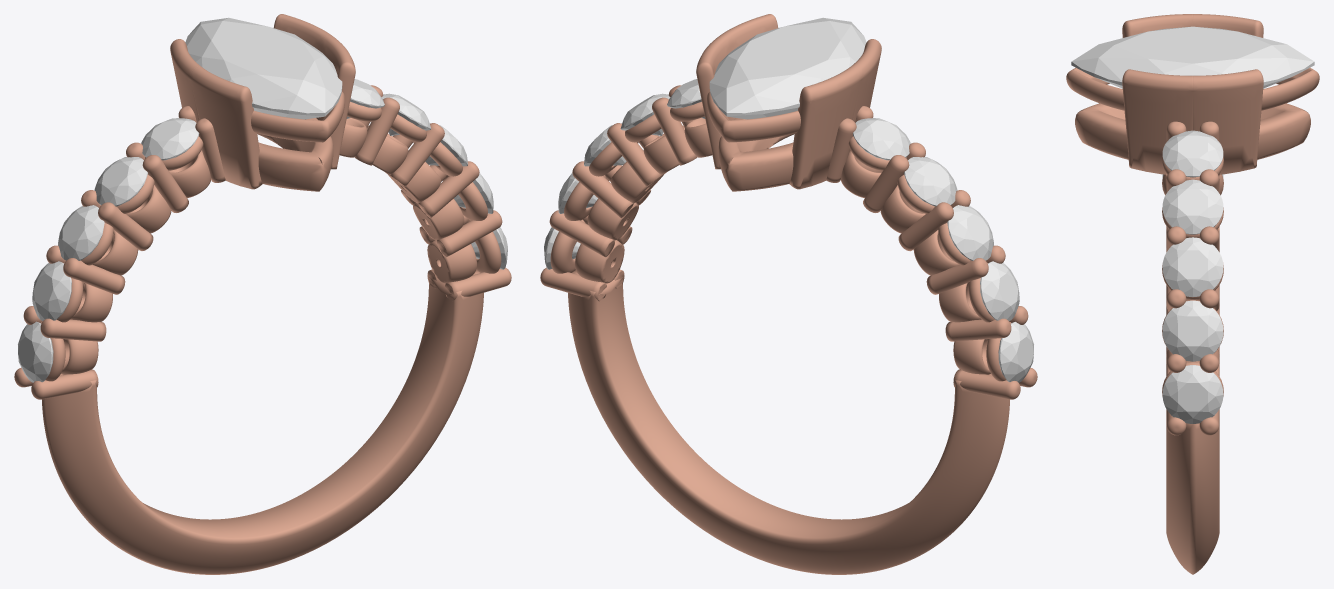
Rendered from diamond-marquise-rosegold-halfmoonbezel-knifeedge-11stone.glb.
3 renders of one model, left to right at view 1: azimuth 30°, elevation 25°; view 2: azimuth 150°, elevation 25°; view 3: azimuth 270°, elevation 25°, orthographic. The views are drawn at different scales.
Parts seen in each view (by area): view 1: metal.003, stone.002, side.022, side.023, side.021, side.024, side.020, side.028, side.029; view 2: metal.003, stone.002, side.022, side.023, side.021, side.024, side.020, side.028, side.029; view 3: metal.003, stone.002, side.026, side.027, side.025, side.028, side.029.
Boxes of the visible parts, x1,y1,x2,y2 form: metal.003: (14, 14, 511, 574); stone.002: (185, 17, 342, 119); side.022: (58, 205, 104, 260); side.023: (94, 157, 147, 206); side.021: (32, 261, 71, 320); side.024: (141, 118, 199, 160); side.020: (18, 321, 53, 382); side.028: (381, 93, 431, 135); side.029: (346, 79, 384, 118); metal.003: (540, 14, 1037, 574); stone.002: (709, 17, 866, 119); side.022: (947, 205, 993, 260); side.023: (904, 157, 957, 206); side.021: (980, 261, 1019, 320); side.024: (852, 118, 910, 160); side.020: (998, 321, 1033, 382); side.028: (620, 93, 670, 135); side.029: (667, 79, 705, 118); metal.003: (1066, 14, 1319, 574); stone.002: (1071, 26, 1314, 88); side.026: (1162, 300, 1223, 361); side.027: (1162, 237, 1223, 296); side.025: (1162, 365, 1223, 423); side.028: (1162, 179, 1223, 234); side.029: (1162, 130, 1223, 177).
Size of the model in its own units: 22.1 by 22.93 by 10.4.
